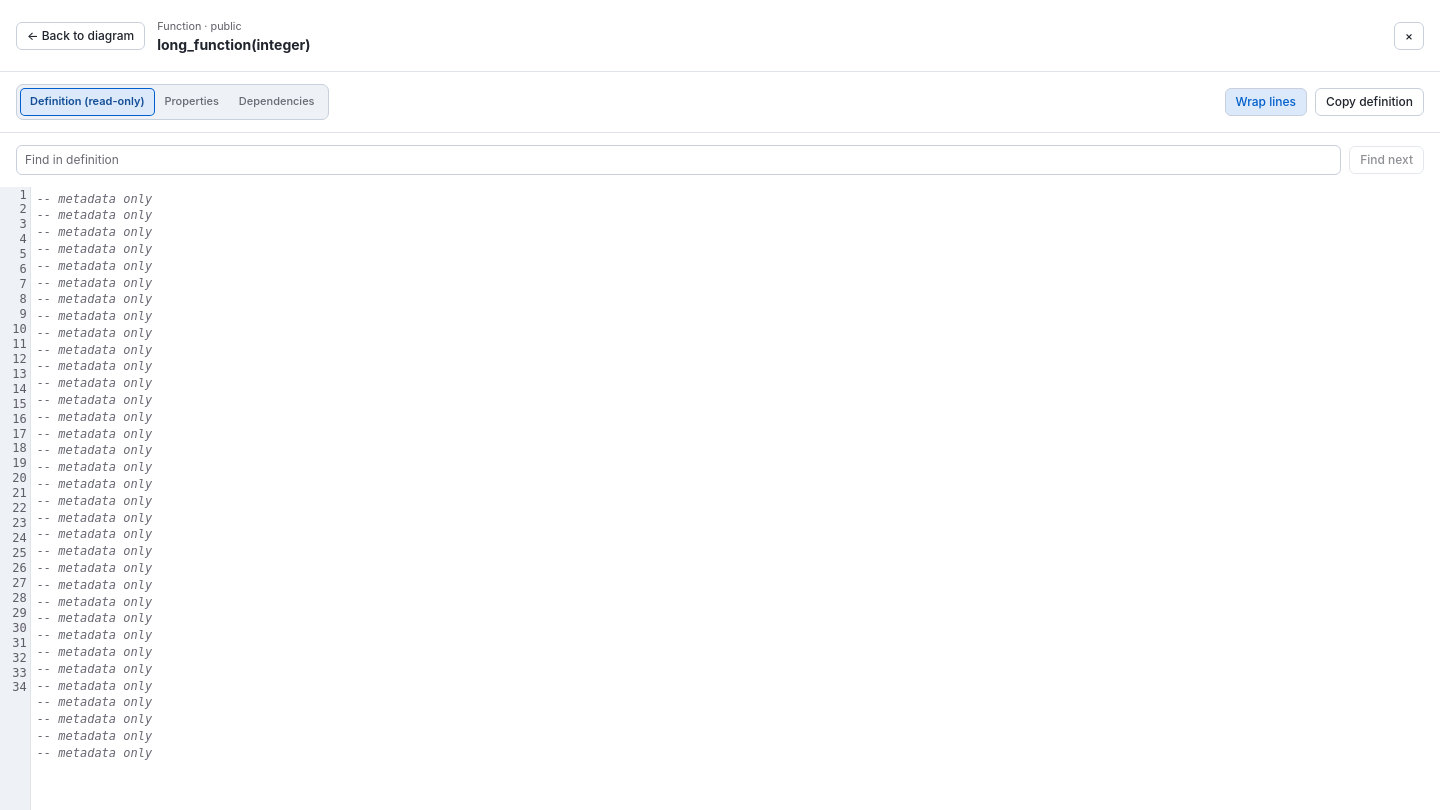
Object documents › keeps the entire long definition read-only and searches beyond the visible viewport
Type "RETURN value_in" into the search field.
click(679, 160); type("RETURN value_in")  # box [16,145,1341,174]
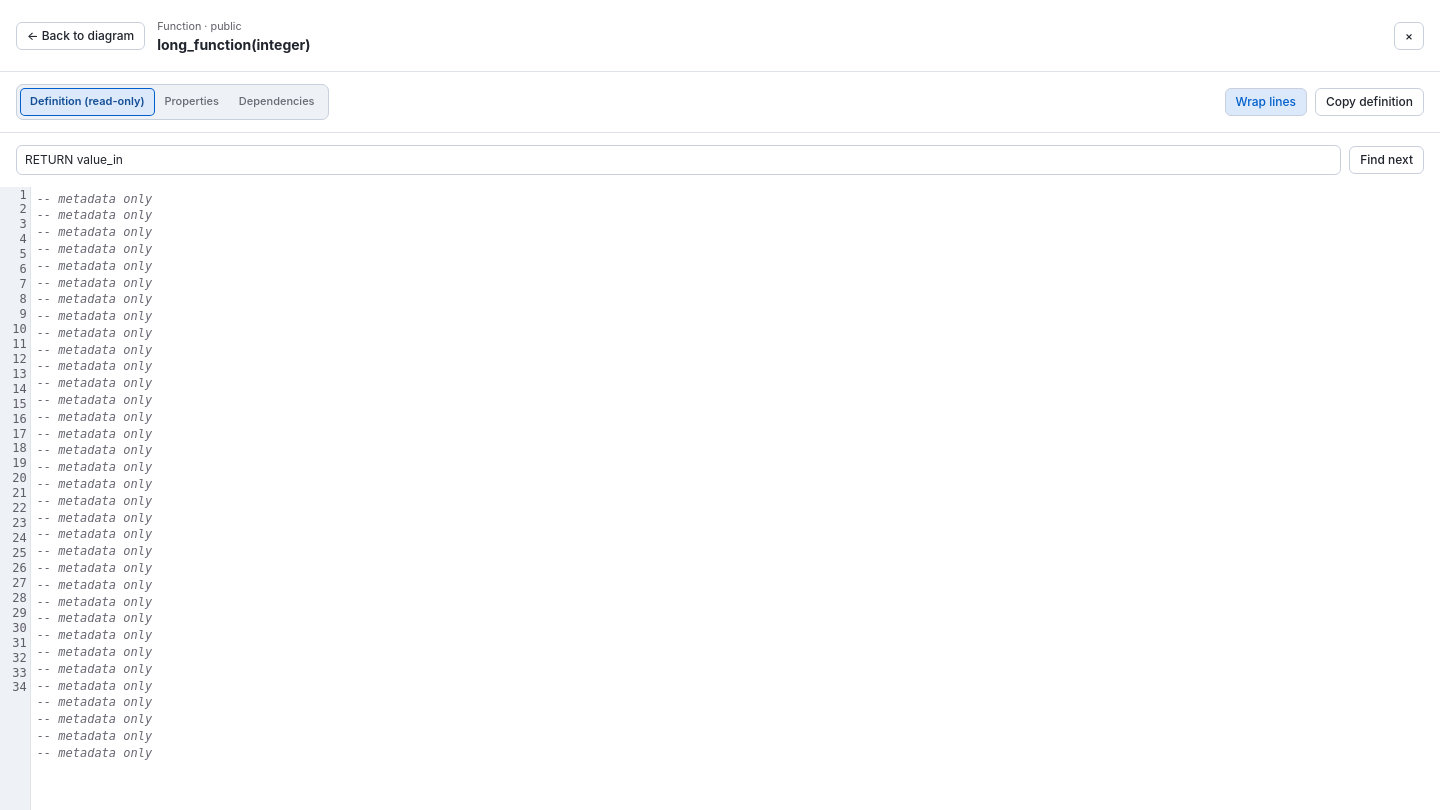
Click the button "Find next".
click(1387, 160)  # box [1349,146,1424,174]
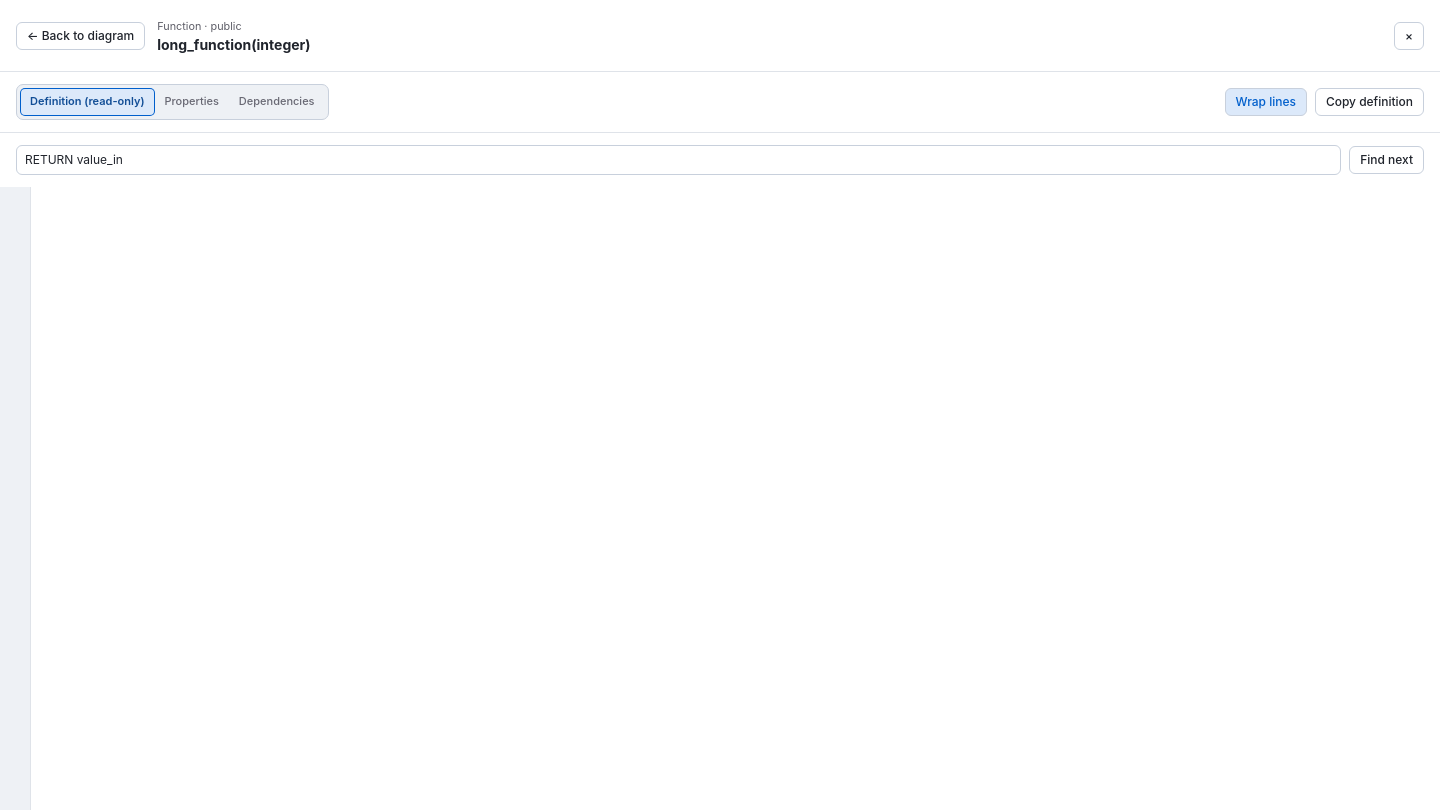
Replace the text in the search field with "missing-token" at (679, 160), box [16,145,1341,174]
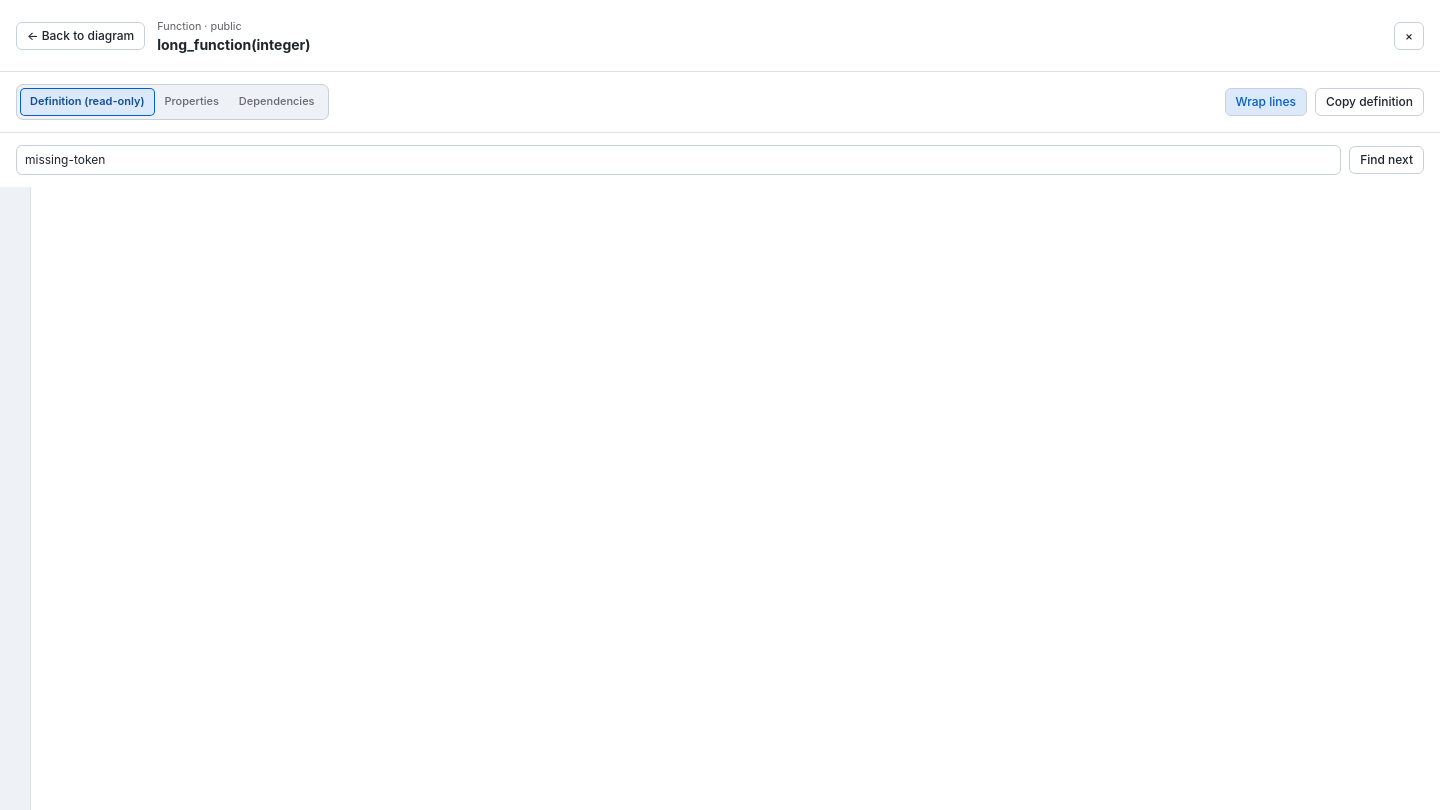
Click the button "Find next".
click(1387, 160)  # box [1349,146,1424,174]
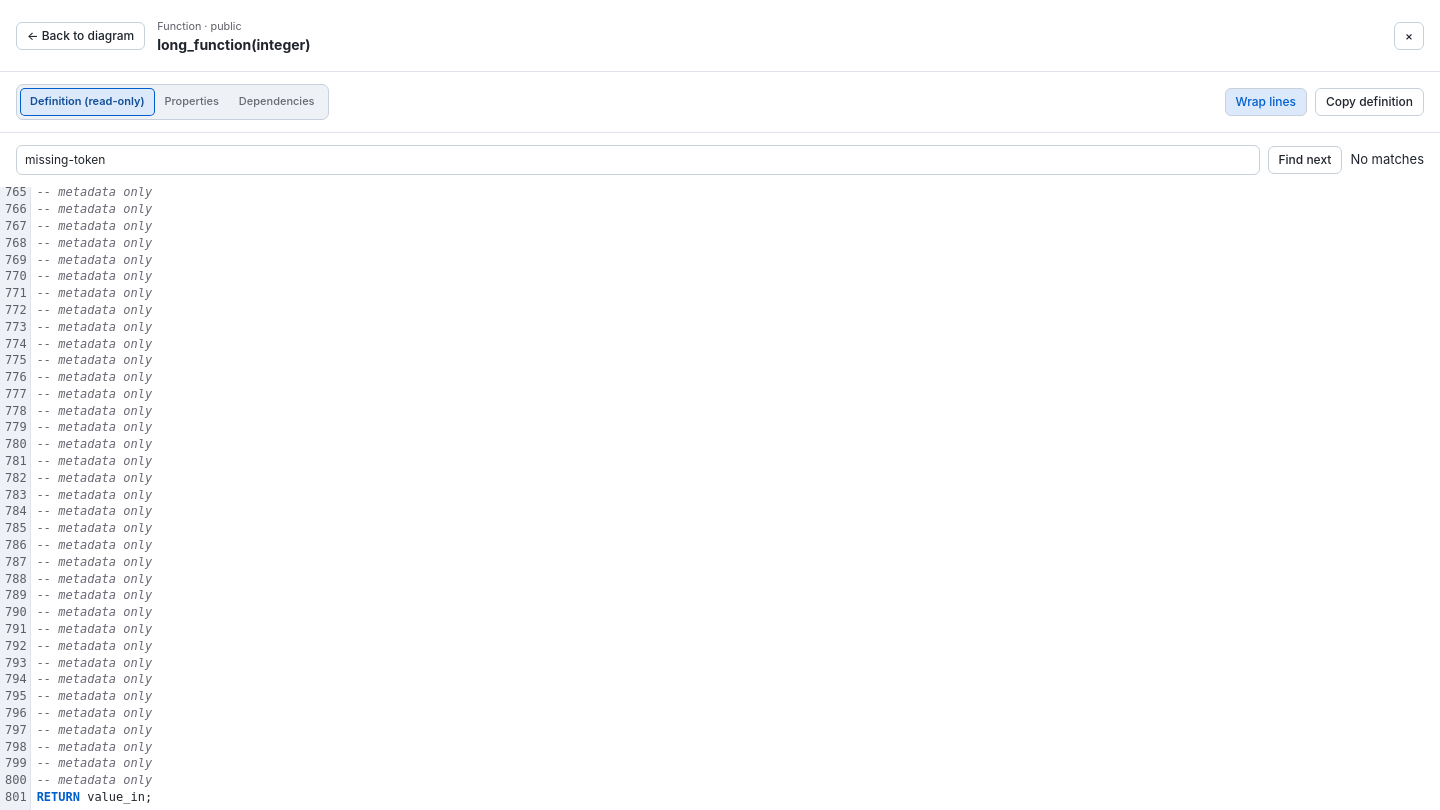
Expected: the message reads "No matches", [1350,151,1424,167]
